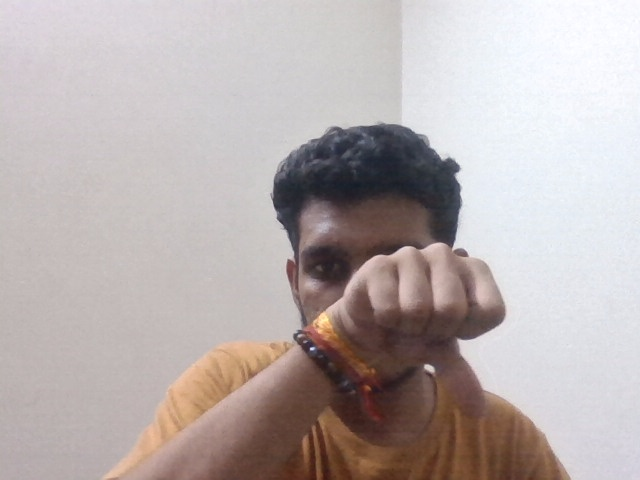yes: (324, 252, 540, 421)
